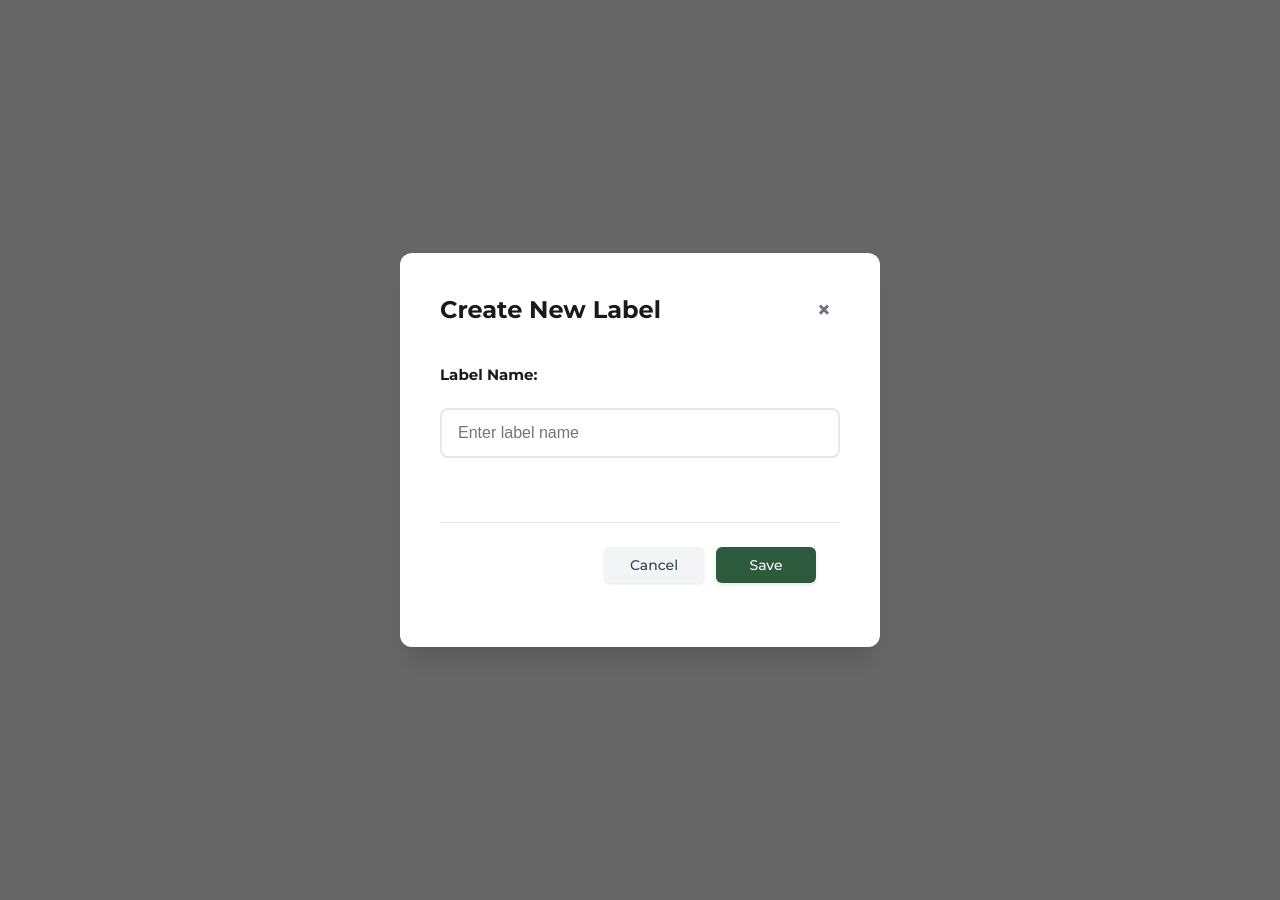
Test case: LabelModal › exibe erro quando tenta salvar com nome vazio
Click the button "Save" at (766, 565), box [716, 547, 816, 583]
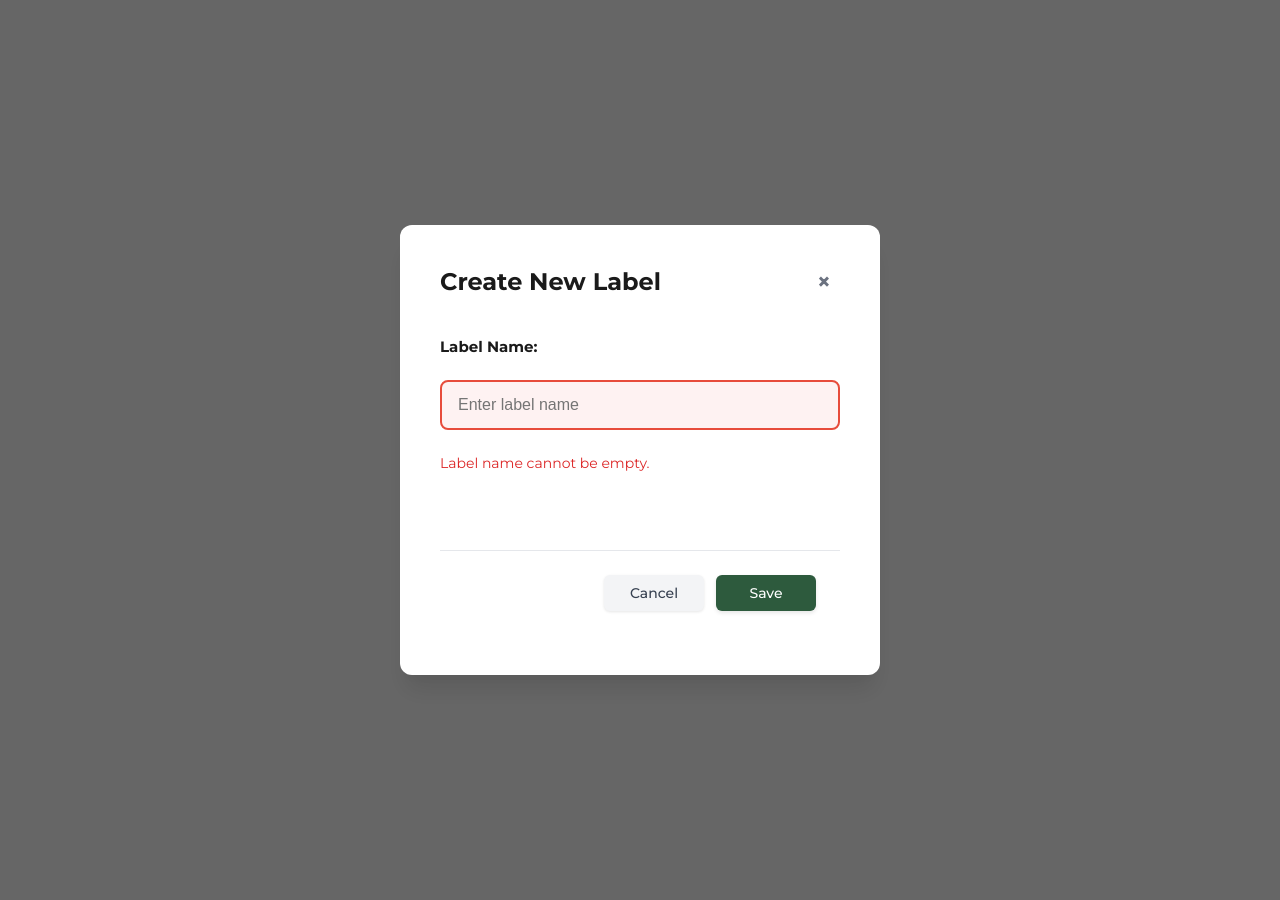
Check: the text "Label name cannot be empty." is shown, box [440, 454, 650, 472]
